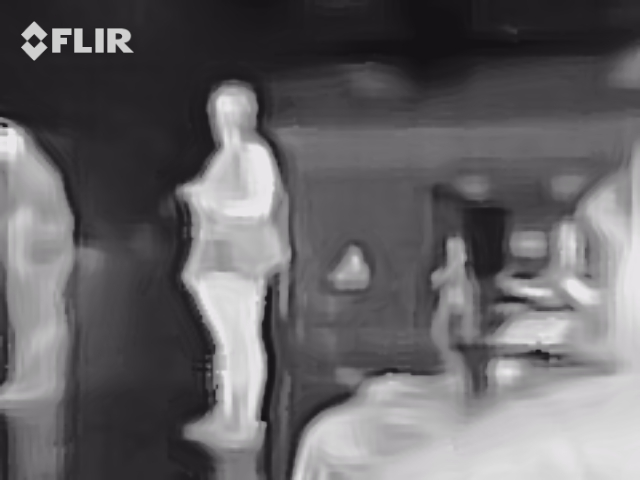head: (206, 82, 260, 145)
